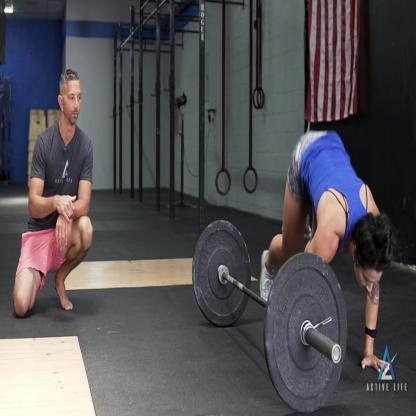Barbell: (261, 248, 349, 415), (190, 213, 253, 333)
